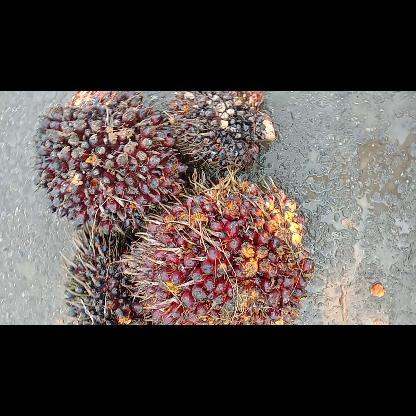Kurang masak: (34, 90, 186, 235)
TBS abnormal: (168, 90, 274, 178), (67, 238, 131, 324)
TBS masak: (130, 180, 312, 324)
